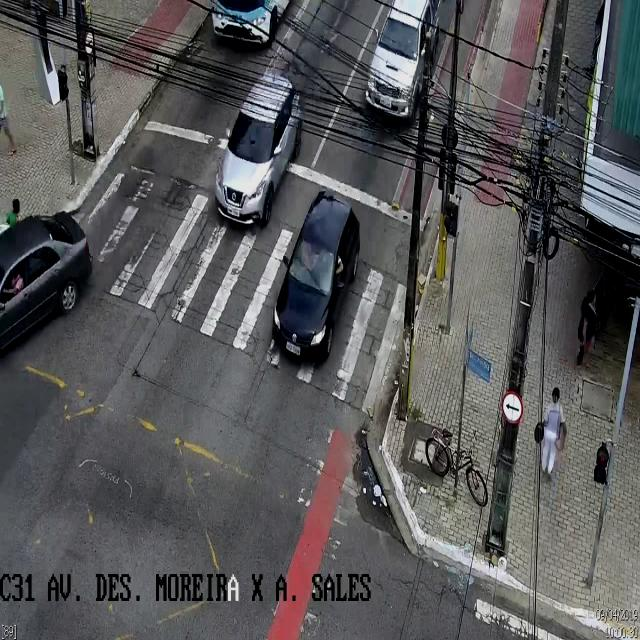Bus: (200, 0, 310, 42)
Car: (271, 194, 360, 364), (215, 70, 301, 228), (0, 213, 94, 344), (365, 2, 438, 114)
